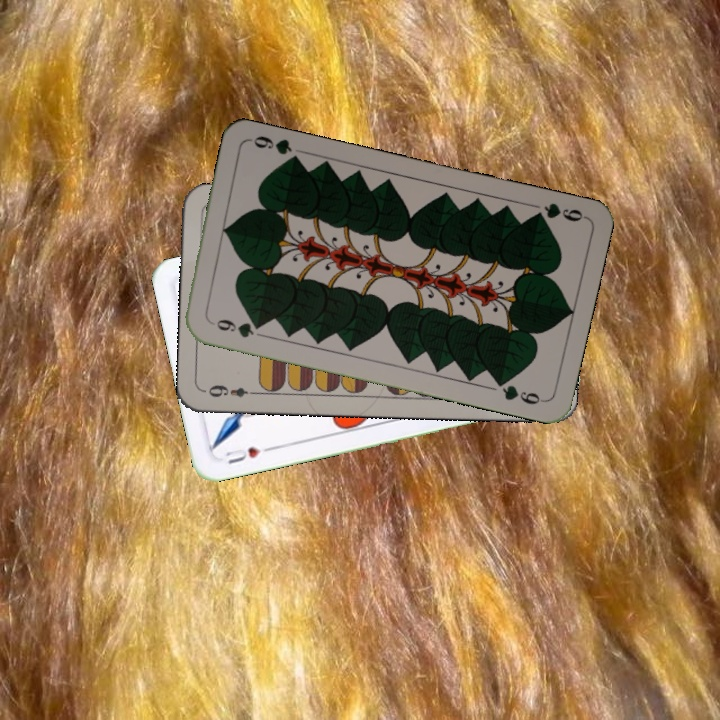E9: (204, 381, 261, 400)
G9: (527, 199, 588, 224), (205, 315, 265, 340)
HU: (221, 443, 275, 467)
